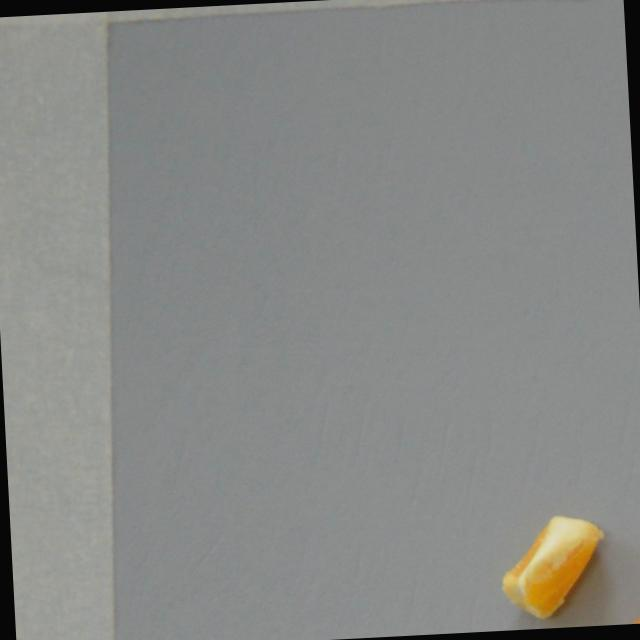dañado: (597, 585, 640, 626)
pelicula: (491, 511, 609, 623)
